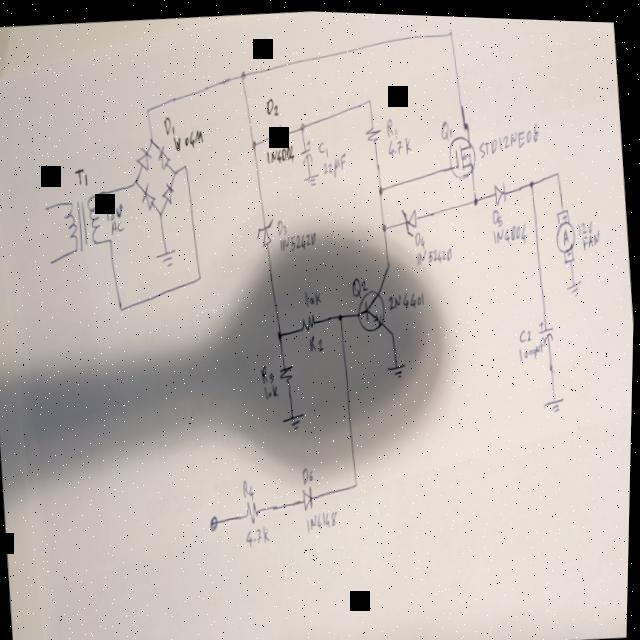capacitor: (538, 316, 556, 344), (298, 136, 315, 164)
diode: (255, 214, 277, 247), (401, 202, 420, 233), (135, 144, 153, 171), (493, 174, 508, 205), (140, 181, 156, 210), (155, 142, 172, 169), (270, 118, 285, 146), (303, 480, 316, 510), (161, 178, 175, 205)
ground: (283, 408, 308, 430), (155, 246, 179, 266), (544, 390, 567, 410), (387, 357, 408, 378), (566, 274, 584, 294), (303, 169, 320, 184)
junction: (337, 306, 346, 320), (117, 299, 126, 312), (389, 323, 397, 336), (381, 218, 388, 230), (298, 117, 305, 129), (277, 326, 284, 338), (377, 182, 385, 192), (132, 174, 140, 184), (528, 173, 535, 184), (472, 191, 479, 202), (446, 23, 453, 34), (385, 256, 392, 267), (251, 137, 258, 147), (239, 67, 246, 77), (182, 159, 189, 169), (107, 234, 114, 244), (144, 104, 151, 114), (171, 165, 178, 175), (197, 270, 203, 281), (157, 207, 164, 216), (366, 93, 373, 101), (148, 134, 154, 143), (354, 477, 360, 485), (555, 165, 560, 173)
resistor: (246, 495, 262, 522), (278, 361, 297, 382), (300, 308, 318, 330), (364, 122, 383, 140)
terminal: (209, 510, 223, 531), (48, 257, 55, 267), (42, 203, 49, 212)
text: (476, 116, 542, 155), (278, 226, 319, 252), (386, 284, 426, 309), (172, 123, 205, 153), (306, 504, 341, 532), (492, 215, 528, 242), (416, 241, 454, 264), (320, 148, 349, 177), (517, 334, 545, 359), (265, 141, 295, 164), (246, 522, 273, 547), (387, 131, 414, 155), (303, 283, 325, 306), (582, 223, 602, 247), (350, 271, 370, 295), (105, 200, 125, 221), (260, 359, 276, 383), (308, 331, 326, 352), (264, 93, 281, 115), (518, 321, 535, 343), (74, 164, 90, 187), (439, 114, 453, 138), (577, 213, 594, 232), (385, 114, 399, 137), (302, 463, 317, 484), (163, 112, 176, 135), (243, 476, 257, 497), (264, 381, 281, 398), (491, 203, 504, 225), (316, 137, 330, 157), (414, 226, 427, 247), (111, 218, 126, 235), (276, 215, 288, 234)
transformer: (62, 193, 106, 253)
transistor: (355, 281, 388, 331), (446, 129, 479, 177)
